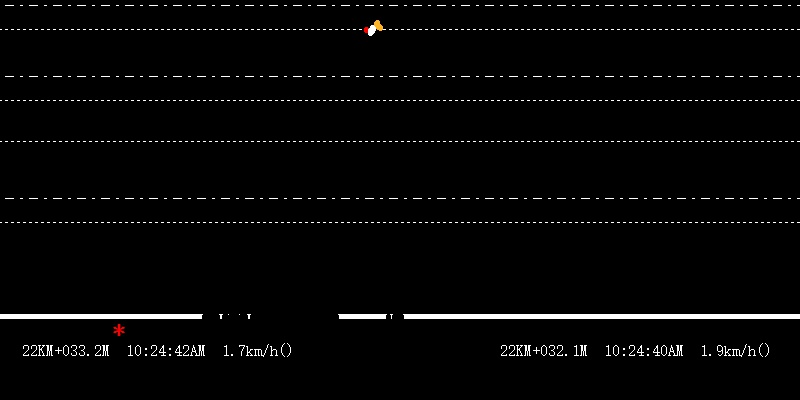face_2: (368, 18, 382, 38)
star: (112, 322, 124, 338)
